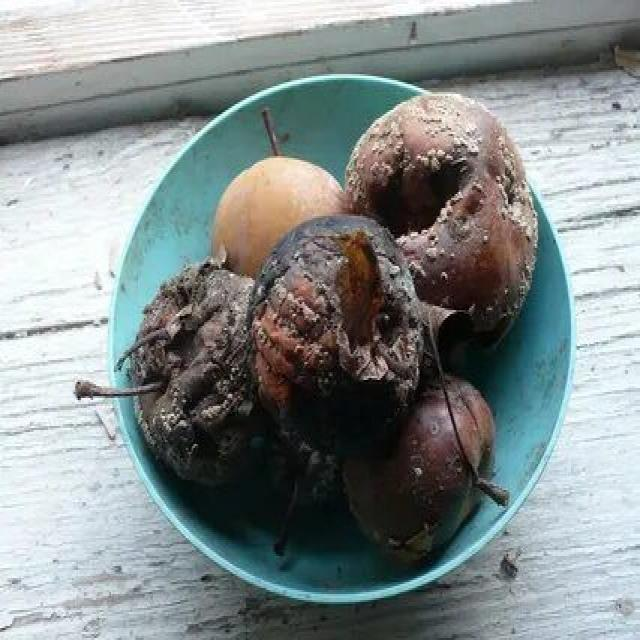Rotten: (255, 208, 437, 442), (350, 97, 517, 295)
